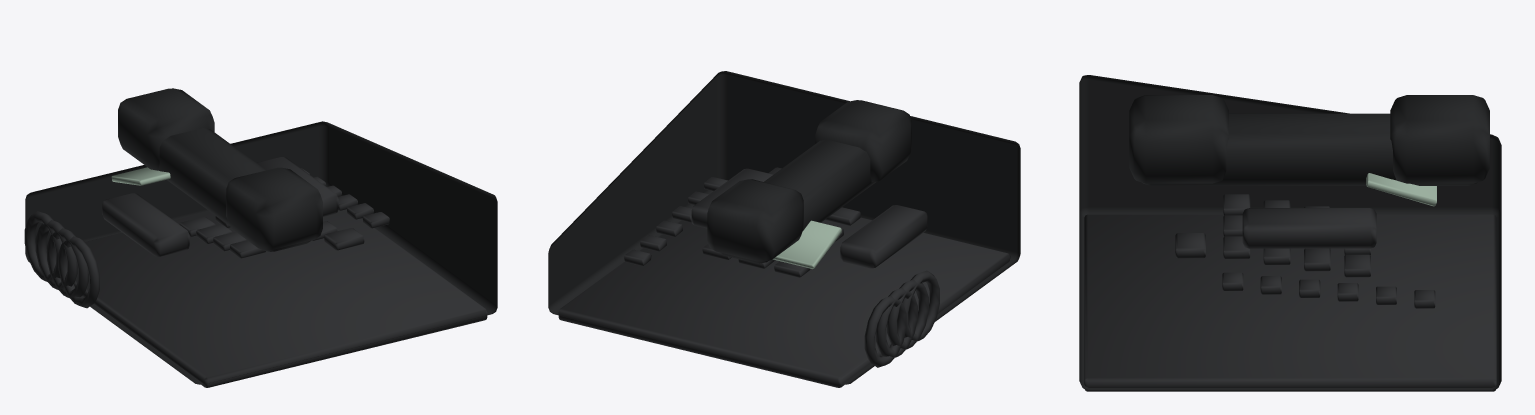
The model's file is asset_085_office_telephone.glb.
3 renders of one model, left to right at view 1: azimuth 30°, elevation 25°; view 2: azimuth 150°, elevation 25°; view 3: azimuth 270°, elevation 25°, orthographic. The views are drawn at different scales.
Visible parts, largest first — view 1: MESH_PhoneFoot, MESH_PhoneBase, MESH_PhoneHandsetMouthpiece, MESH_PhoneHandsetBar, MESH_PhoneHandsetEarpiece, MESH_PhoneCradleL, MESH_PhoneKeypad, MESH_PhoneCord_0, MESH_PhoneCord_2, MESH_PhoneCord_1, MESH_PhoneCord_3, MESH_PhoneCradleR (+2 smaller); view 2: MESH_PhoneBase, MESH_PhoneFoot, MESH_PhoneHandsetEarpiece, MESH_PhoneHandsetBar, MESH_PhoneHandsetMouthpiece, MESH_PhoneCradleL, MESH_PhoneKeypad, MESH_PhoneDisplay, MESH_PhoneCord_3, MESH_PhoneCord_1, MESH_PhoneCord_2, MESH_PhoneCord_0 (+1 smaller); view 3: MESH_PhoneFoot, MESH_PhoneBase, MESH_PhoneHandsetBar, MESH_PhoneHandsetMouthpiece, MESH_PhoneHandsetEarpiece, MESH_PhoneKeypad, MESH_PhoneCradleR, MESH_PhoneDisplay, MESH_PhoneSpeakerKey.
Boxes of the visible parts, x1,y1,x2,y2 form: MESH_PhoneFoot: (46, 209, 487, 387); MESH_PhoneBase: (25, 121, 497, 384); MESH_PhoneHandsetMouthpiece: (226, 167, 322, 250); MESH_PhoneHandsetBar: (158, 128, 310, 251); MESH_PhoneHandsetEarpiece: (118, 88, 214, 170); MESH_PhoneCradleL: (102, 193, 189, 256); MESH_PhoneKeypad: (179, 168, 389, 258); MESH_PhoneCord_0: (58, 236, 99, 308); MESH_PhoneCord_2: (35, 220, 77, 289); MESH_PhoneCord_1: (47, 228, 88, 297); MESH_PhoneCord_3: (24, 211, 61, 281); MESH_PhoneCradleR: (257, 157, 338, 216); MESH_PhoneBase: (548, 71, 1020, 384); MESH_PhoneFoot: (558, 217, 1010, 387); MESH_PhoneHandsetEarpiece: (707, 179, 803, 261); MESH_PhoneHandsetBar: (719, 139, 876, 263); MESH_PhoneHandsetMouthpiece: (815, 100, 911, 182); MESH_PhoneCradleL: (840, 205, 927, 268); MESH_PhoneKeypad: (624, 177, 860, 277); MESH_PhoneDisplay: (773, 220, 841, 268); MESH_PhoneCord_3: (864, 296, 906, 367); MESH_PhoneCord_1: (887, 279, 928, 349); MESH_PhoneCord_2: (876, 287, 917, 357); MESH_PhoneCord_0: (902, 270, 939, 341); MESH_PhoneFoot: (1084, 214, 1496, 391); MESH_PhoneBase: (1079, 75, 1501, 390); MESH_PhoneHandsetBar: (1142, 113, 1477, 185); MESH_PhoneHandsetMouthpiece: (1129, 95, 1228, 183); MESH_PhoneHandsetEarpiece: (1390, 95, 1489, 183); MESH_PhoneKeypad: (1222, 194, 1435, 308); MESH_PhoneCradleR: (1242, 208, 1376, 248); MESH_PhoneDisplay: (1366, 173, 1436, 206); MESH_PhoneSpeakerKey: (1175, 233, 1205, 258).
Size of the model in its own units: 0.2283 by 0.12 by 0.24.
